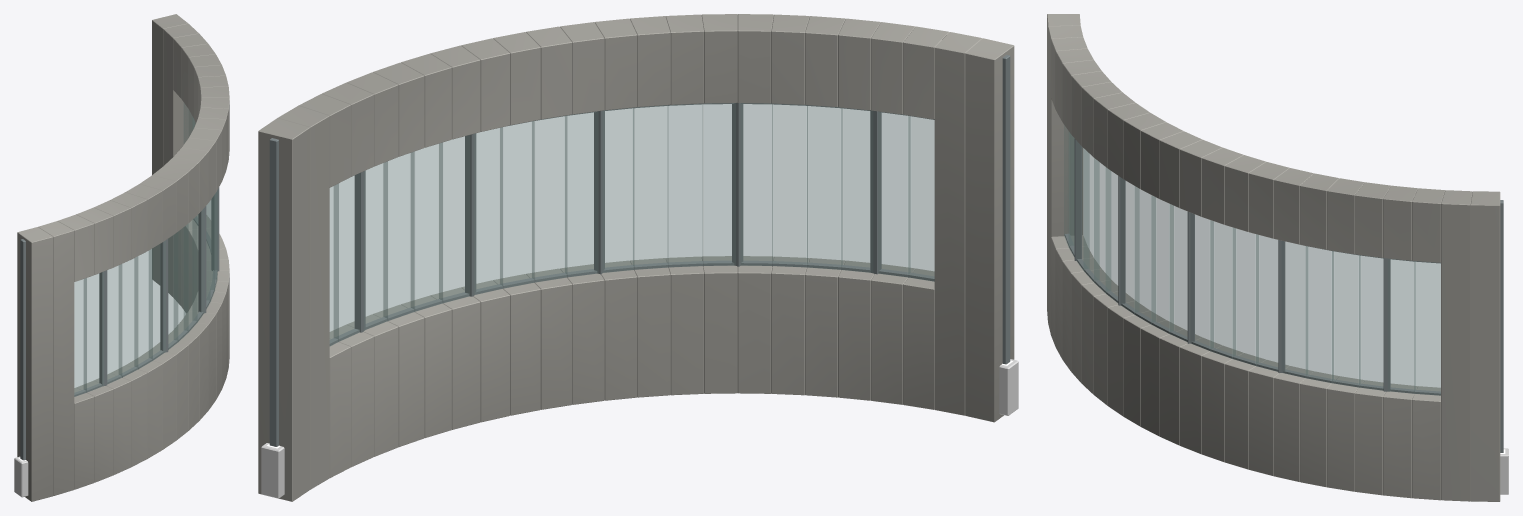
File: window-quarter.glb
3 renders of one model, left to right at view 1: azimuth 30°, elevation 25°; view 2: azimuth 150°, elevation 25°; view 3: azimuth 270°, elevation 25°, orthographic. The views are drawn at different scales.
Parts seen in each view (by area): view 1: window-quarter_MineralConcrete, window-quarter_WindowGlass, window-quarter_EdgeSteel, window-quarter_WhiteArmour; view 2: window-quarter_MineralConcrete, window-quarter_WindowGlass, window-quarter_EdgeSteel, window-quarter_WhiteArmour; view 3: window-quarter_MineralConcrete, window-quarter_WindowGlass, window-quarter_EdgeSteel.
Part boxes in pixels (box(x1,y1,x2,y2)): window-quarter_MineralConcrete: box(17, 14, 229, 501); window-quarter_WindowGlass: box(74, 103, 217, 396); window-quarter_EdgeSteel: box(20, 187, 219, 460); window-quarter_WhiteArmour: box(14, 456, 28, 497); window-quarter_MineralConcrete: box(258, 14, 1014, 501); window-quarter_WindowGlass: box(330, 103, 934, 346); window-quarter_EdgeSteel: box(269, 54, 1010, 446); window-quarter_WhiteArmour: box(261, 359, 1018, 498); window-quarter_MineralConcrete: box(1047, 14, 1500, 501); window-quarter_WindowGlass: box(1064, 125, 1440, 395); window-quarter_EdgeSteel: box(1064, 139, 1503, 452).
Bounding box in the file's own units: 4.23 × 3 × 4.23.
